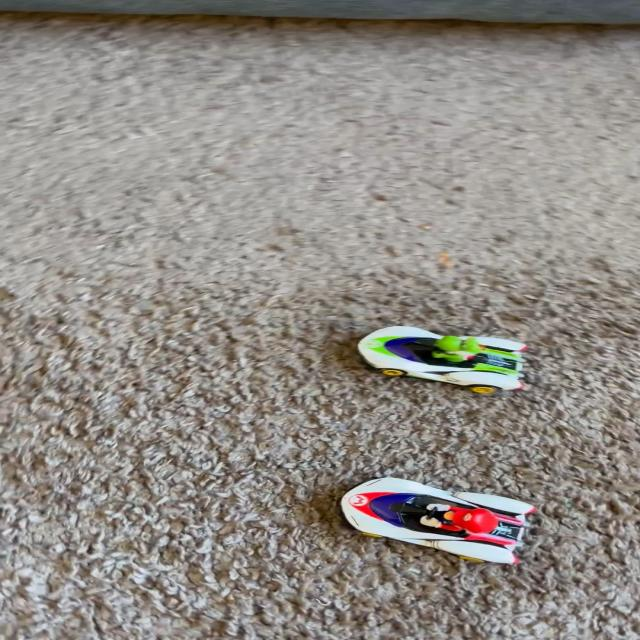mario: (334, 472, 552, 569)
yoshi: (346, 314, 540, 394)
